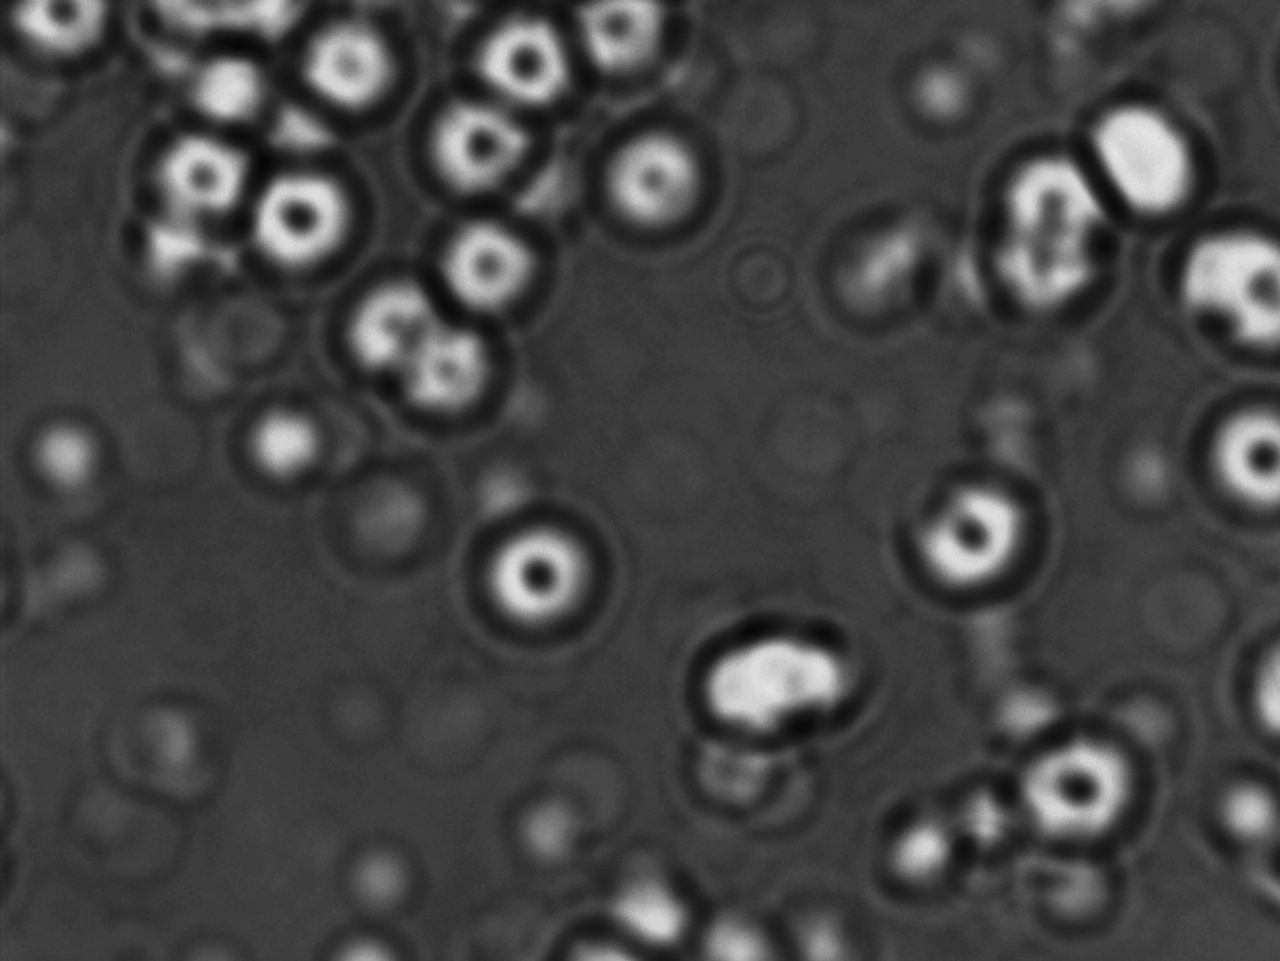depth:32: (896, 455, 1049, 598), (475, 502, 618, 650), (399, 80, 550, 212), (1011, 708, 1149, 850), (588, 115, 723, 259), (122, 105, 266, 236), (419, 193, 553, 330), (248, 158, 378, 278), (1189, 382, 1280, 529)
